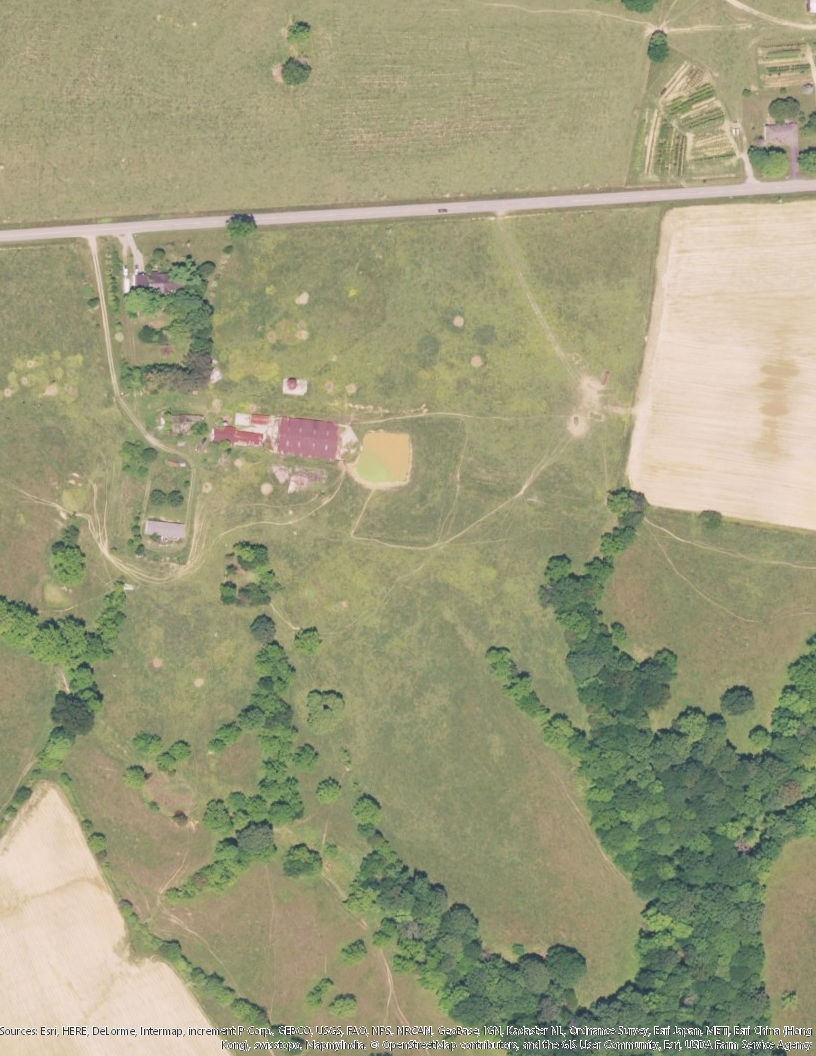cafo: (276, 409, 346, 457)
